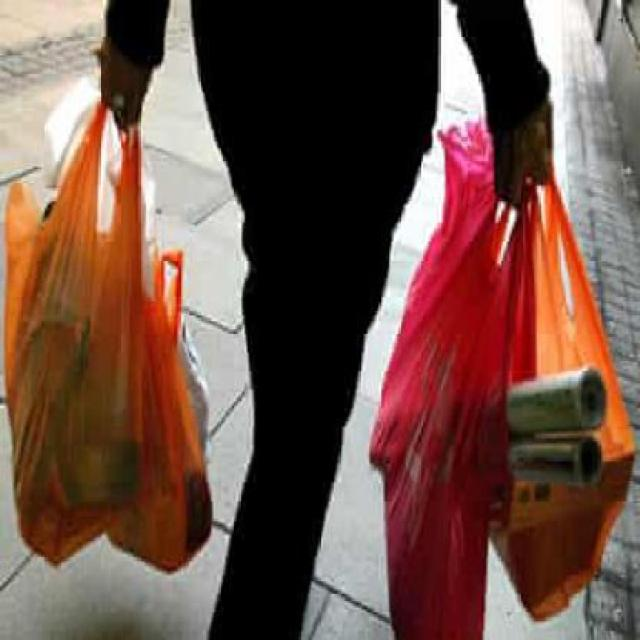plastic bag: (3, 86, 222, 579), (368, 137, 532, 638), (511, 182, 619, 626)
